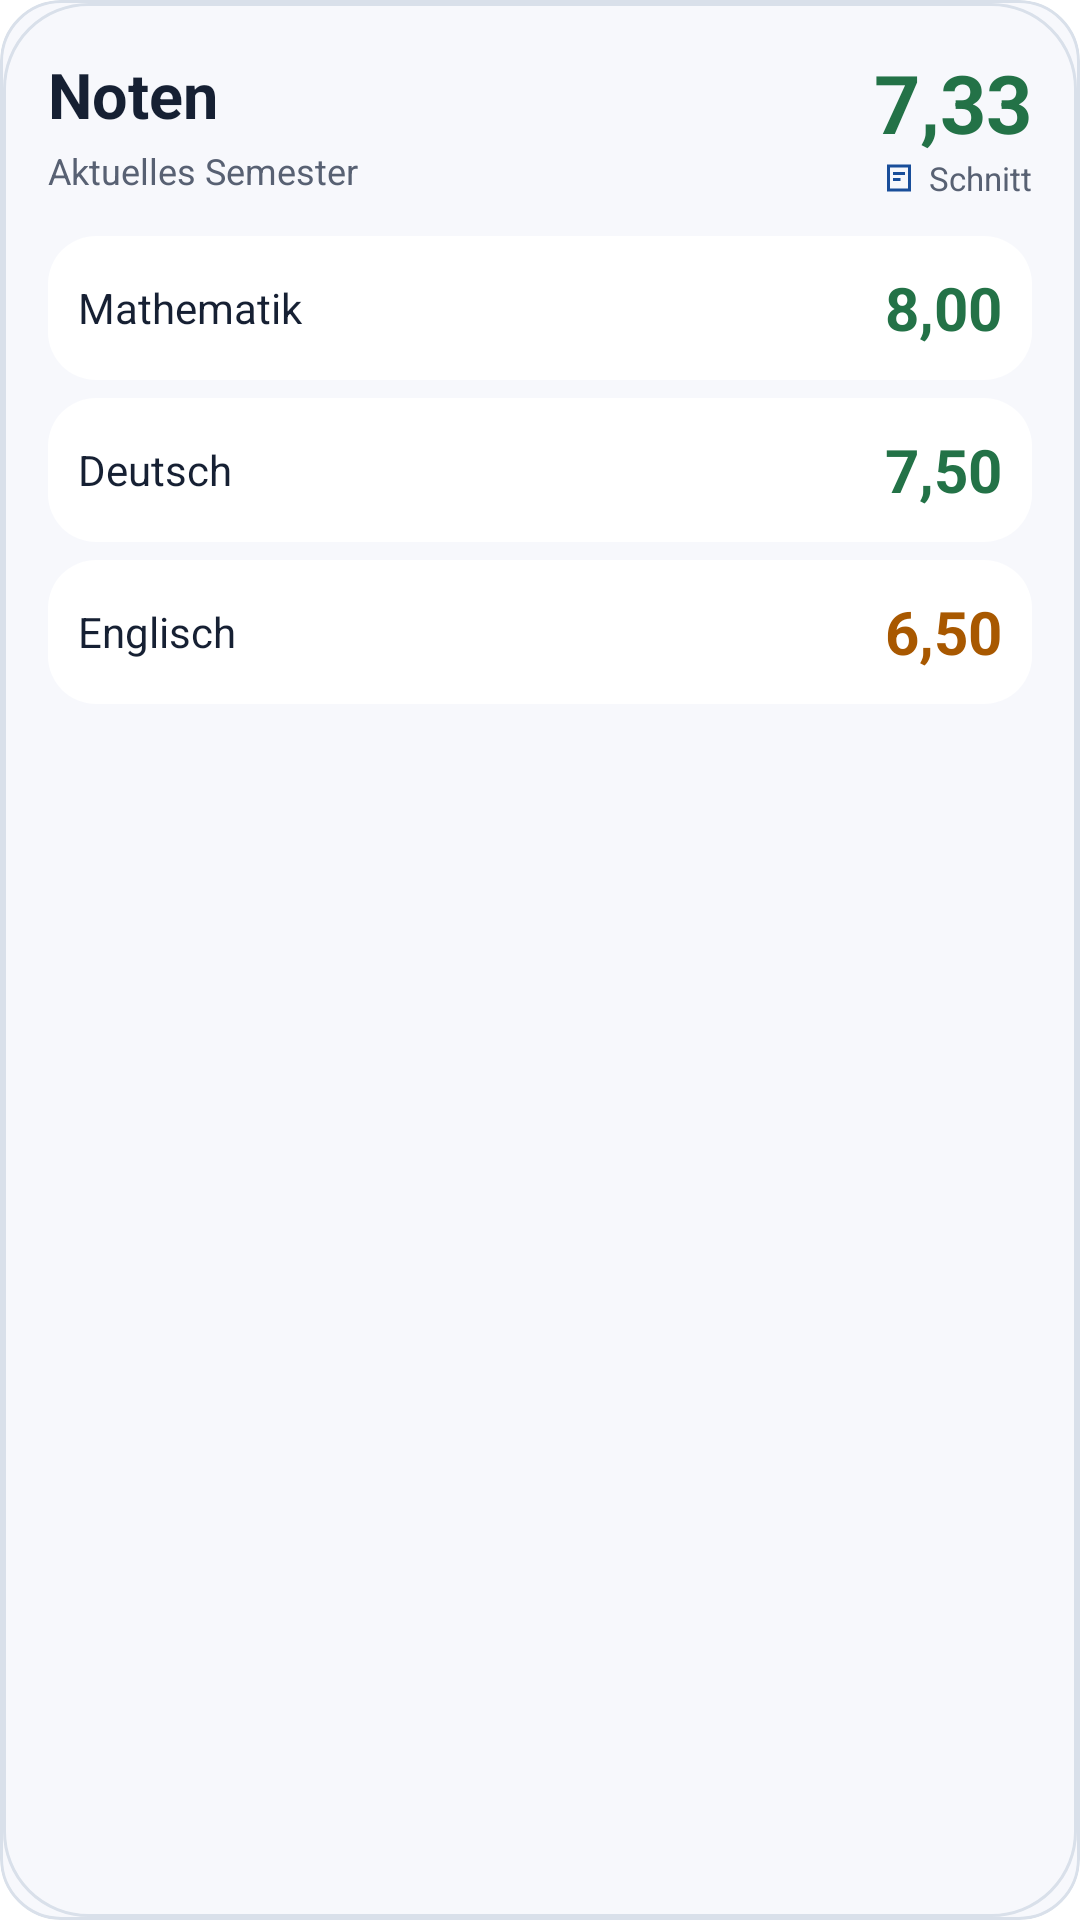

Named icons in this screenshot (1080 × 1920) and their centers, (x=x, y=y):
widget grades: (x=899, y=178)
